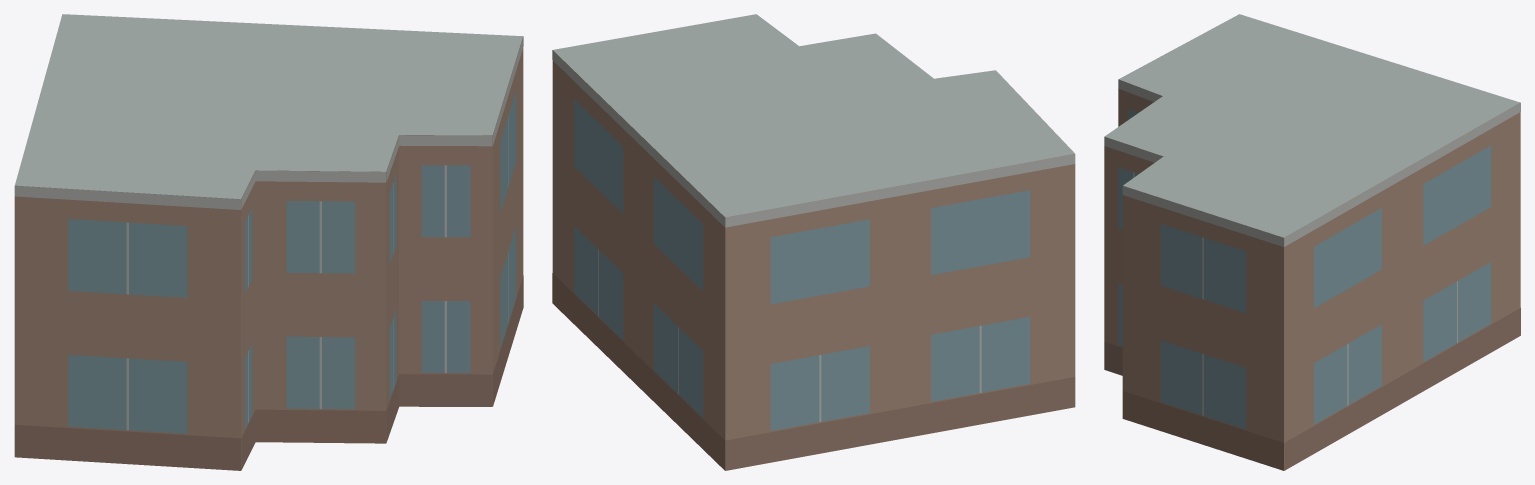
The model's file is survey-upis-32740172.glb.
3 views of the same model, side by side, from view 1: azimuth 30°, elevation 25°; view 2: azimuth 150°, elevation 25°; view 3: azimuth 270°, elevation 25° (orthographic). The views are drawn at different scales.
Visible parts, largest first — view 1: survey-upis-32740172.tmp; view 2: survey-upis-32740172.tmp; view 3: survey-upis-32740172.tmp.
Boxes of the visible parts, <box> form: survey-upis-32740172.tmp: <box>14,14,523,470</box>; survey-upis-32740172.tmp: <box>552,14,1075,470</box>; survey-upis-32740172.tmp: <box>1104,14,1520,470</box>.
Bounding box in the file's own units: 12.57 × 6.1 × 9.89.
